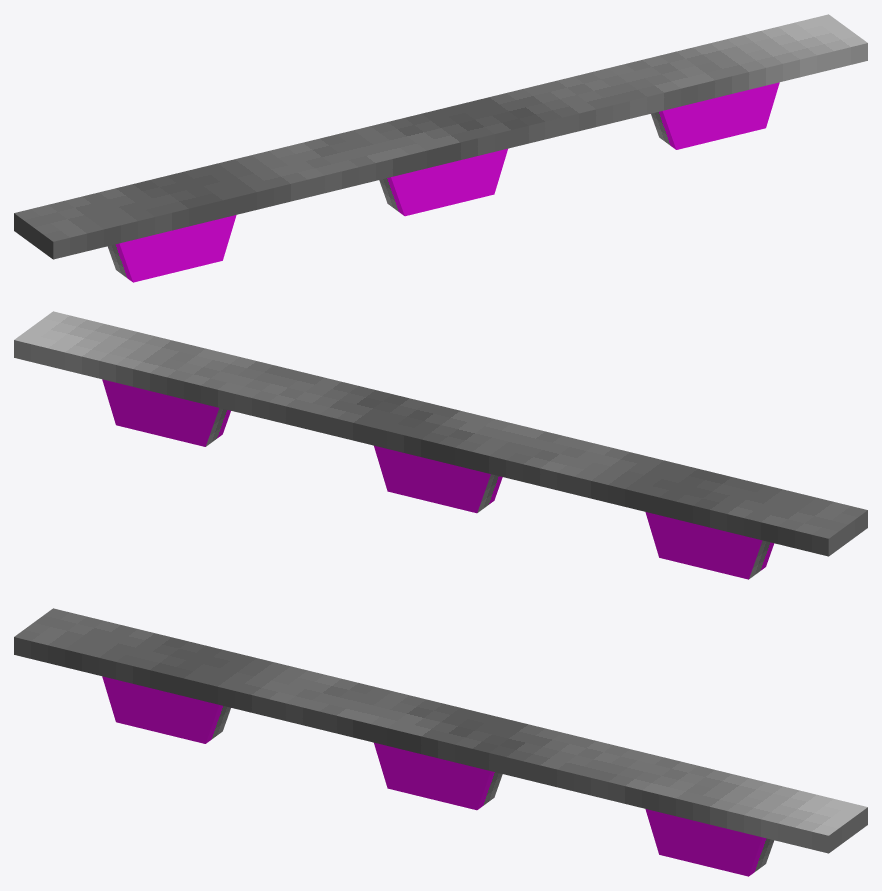
The model's file is hangar_door_opened.obj.
The picture shows the model from 3 angles, top to bottom: view 1: azimuth 30°, elevation 25°; view 2: azimuth 150°, elevation 25°; view 3: azimuth 330°, elevation 25°; orthographic projection.
Visible parts, largest first — view 1: Box001, Box006, Box005, Box007; view 2: Box001, Box006, Box005, Box007; view 3: Box001, Box007, Box005, Box006.
Part boxes in pixels (<box>): Box001: <box>14,14,867,259</box>; Box006: <box>651,82,779,149</box>; Box005: <box>379,148,507,216</box>; Box007: <box>107,215,236,282</box>; Box001: <box>14,311,867,556</box>; Box006: <box>102,379,230,446</box>; Box005: <box>374,445,502,513</box>; Box007: <box>645,512,774,579</box>; Box001: <box>14,608,867,853</box>; Box007: <box>102,676,230,743</box>; Box005: <box>374,742,502,810</box>; Box006: <box>645,809,774,876</box>.
Size of the model in its own units: 3 by 0.25 by 0.25.
